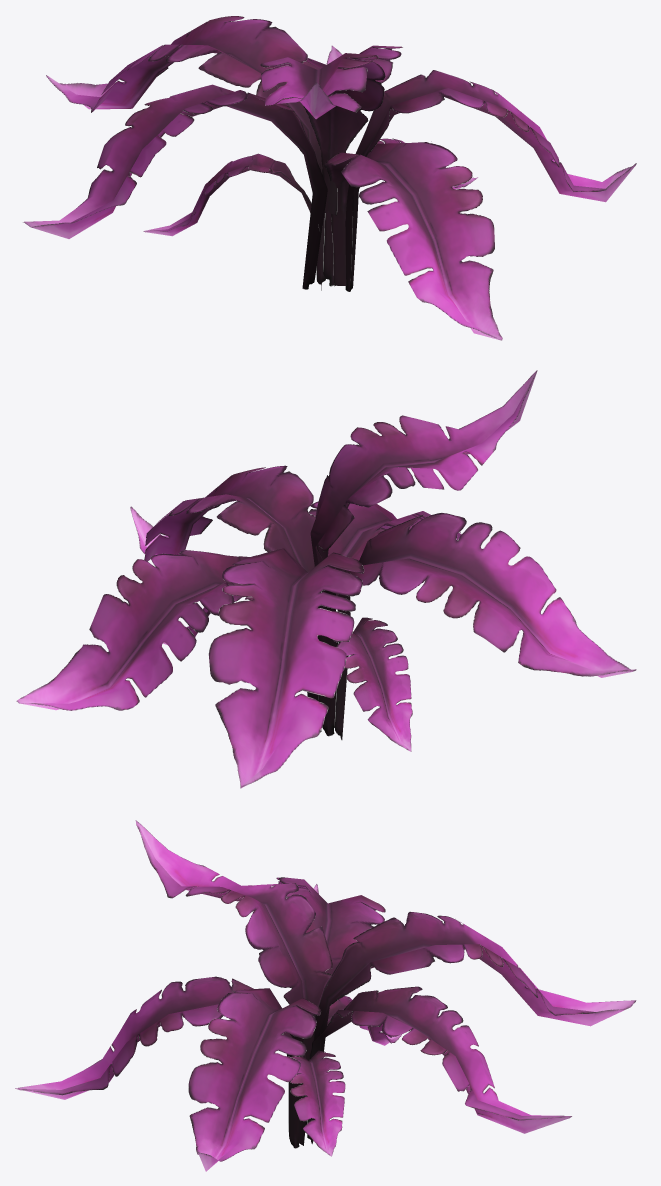
File: Battle01_Cao_010.FBX
3 renders of one model, top to bottom at view 1: azimuth 30°, elevation 25°; view 2: azimuth 150°, elevation 25°; view 3: azimuth 270°, elevation 25°, orthographic. The views are drawn at different scales.
Parts seen in each view (by area): view 1: Battle01_Cao_010; view 2: Battle01_Cao_010; view 3: Battle01_Cao_010.
Boxes of the visible parts, left/top/right/bottom form: Battle01_Cao_010: left=23, top=16, right=636, bottom=340; Battle01_Cao_010: left=16, top=370, right=636, bottom=788; Battle01_Cao_010: left=15, top=820, right=636, bottom=1171.
Bounding box in the file's own units: 2.9 × 1.51 × 3.1.
